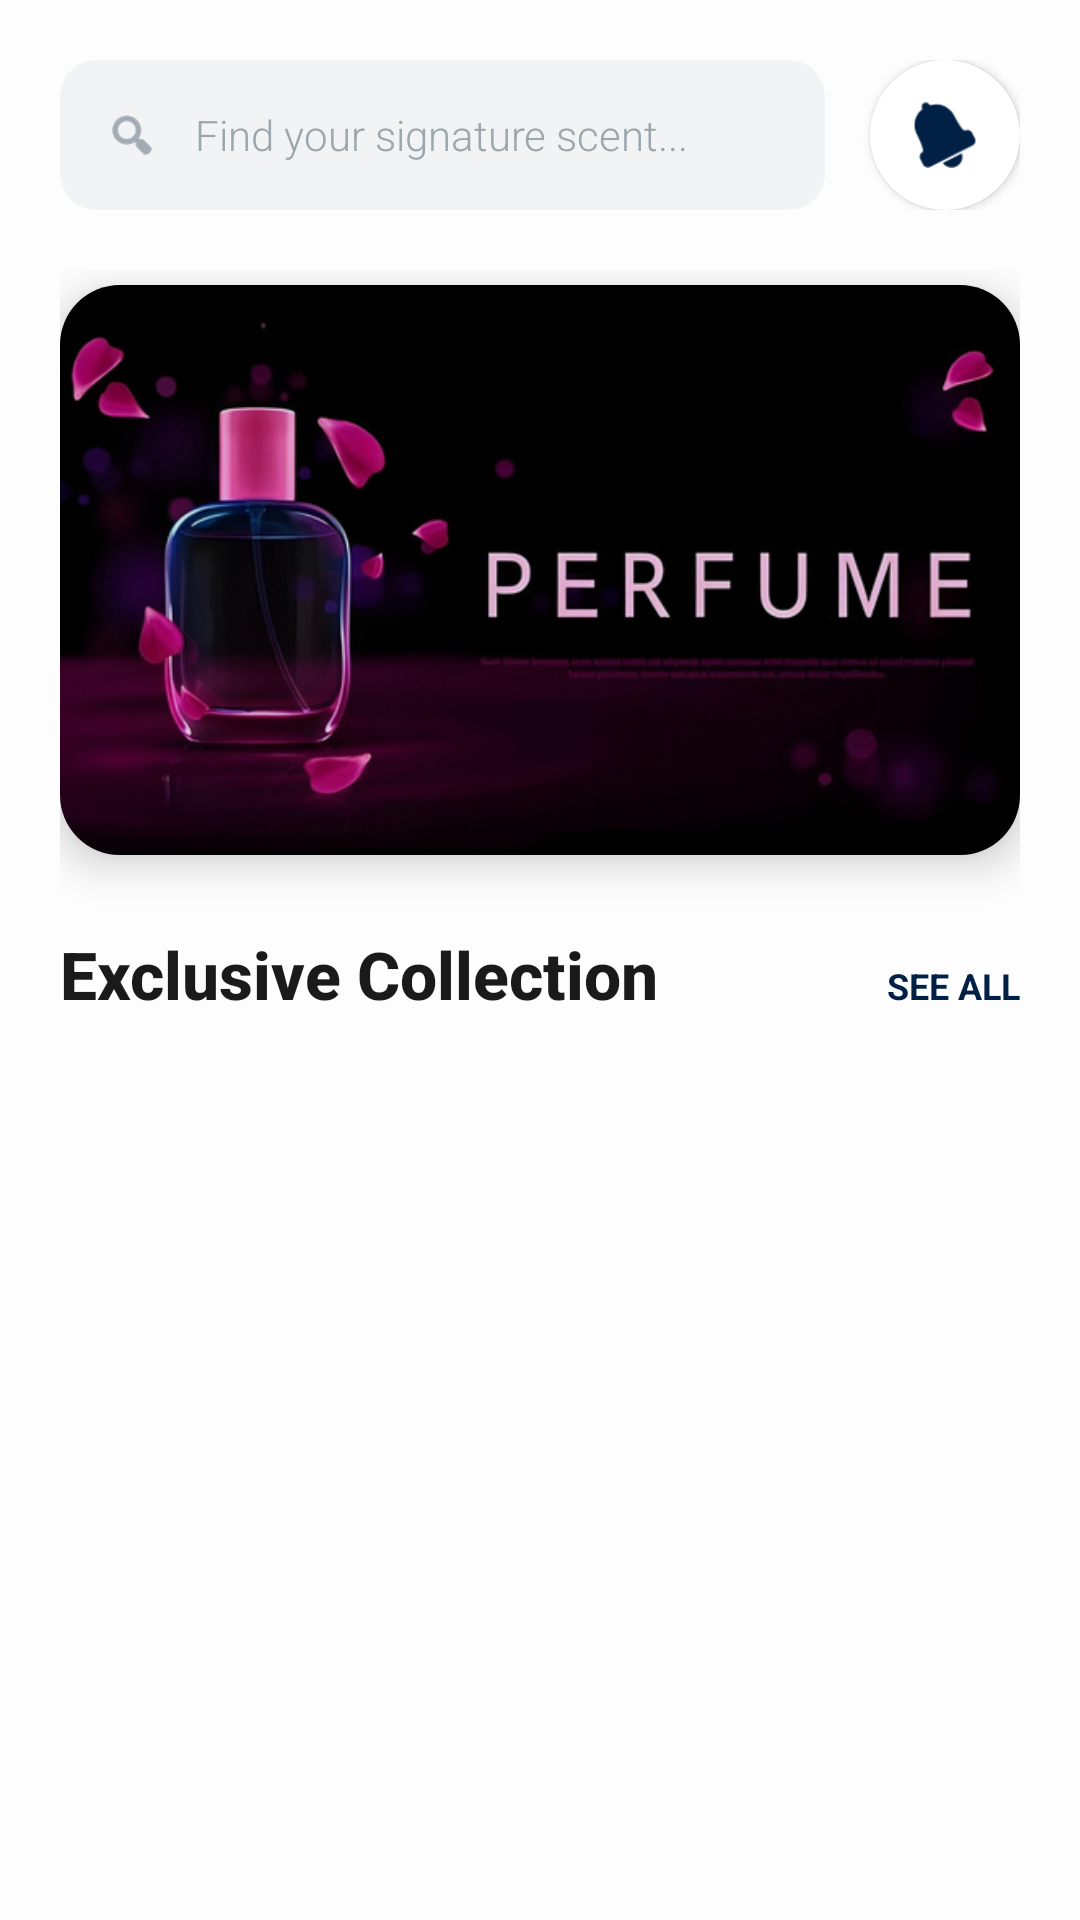

Where icons sit on this 1080 x 1920 app screen, as bbox=[x1, y1, x2, y2]:
popup reminder: bbox=[914, 102, 976, 168]
search: bbox=[112, 115, 152, 155]
